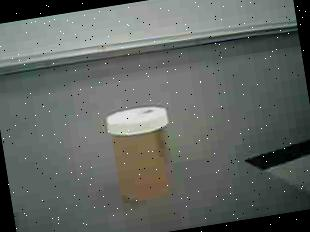Bottle B: (95, 94, 189, 214)
